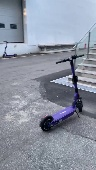beam: (39, 53, 87, 133), (1, 40, 18, 58)
